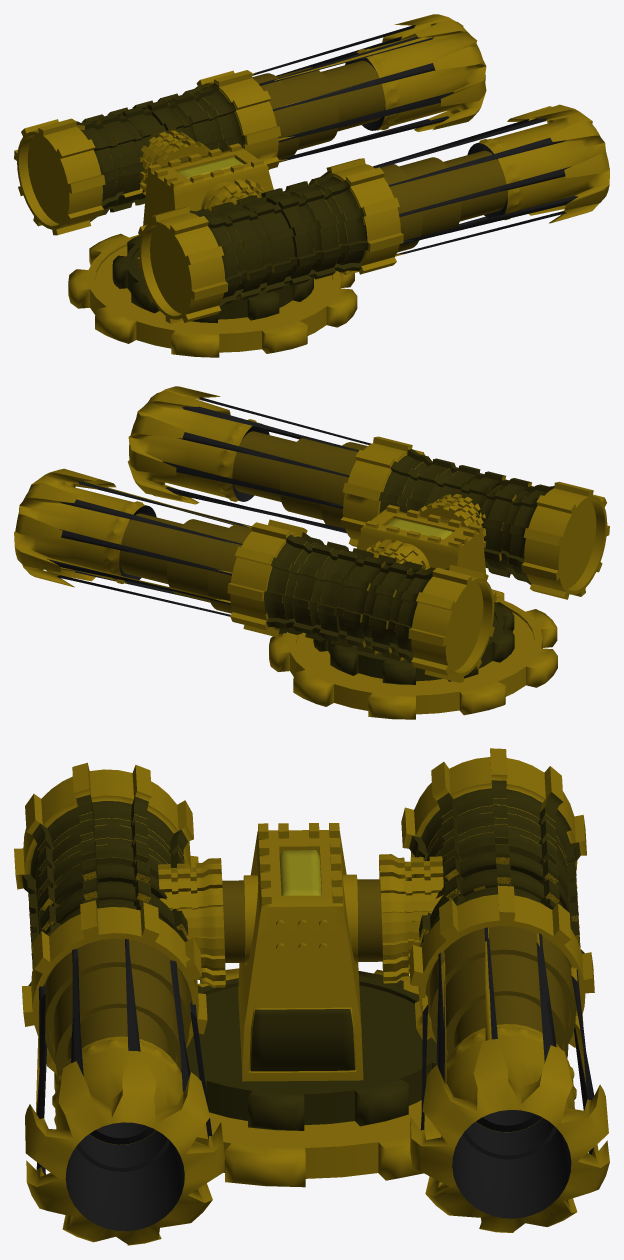
Rendered from Steampunk Cannon.fbx.
3 renders of one model, top to bottom at view 1: azimuth 30°, elevation 25°; view 2: azimuth 150°, elevation 25°; view 3: azimuth 270°, elevation 25°, orthographic. The views are drawn at different scales.
Visible parts, largest first — view 1: Cylinder_3_2, Cylinder_2, Cylinder_4, Cube, Cylinder_3, Tube_1, Tube; view 2: Cylinder_2, Cylinder_3_2, Cylinder_4, Cube, Cylinder_3, Tube, Tube_1; view 3: Cylinder_3_2, Cylinder_2, Cube, Cylinder_3, Cylinder_4, Tube_1, Tube, Cylinder_1, Cylinder.
Part boxes in pixels (x1,y1,x2,y2): Cylinder_3_2: [136, 104, 609, 323]; Cylinder_2: [14, 14, 486, 235]; Cylinder_4: [68, 233, 357, 357]; Cube: [143, 143, 273, 225]; Cylinder_3: [112, 235, 313, 323]; Tube_1: [139, 130, 210, 195]; Tube: [206, 179, 266, 211]; Cylinder_2: [14, 468, 496, 682]; Cylinder_3_2: [128, 386, 609, 599]; Cylinder_4: [269, 589, 557, 719]; Cube: [356, 504, 485, 573]; Cylinder_3: [313, 602, 514, 684]; Tube: [418, 494, 486, 547]; Tube_1: [365, 539, 427, 569]; Cylinder_3_2: [14, 762, 224, 1245]; Cylinder_2: [401, 748, 609, 1232]; Cube: [238, 823, 363, 1081]; Cylinder_3: [181, 971, 436, 1130]; Cylinder_4: [54, 968, 441, 1187]; Tube_1: [379, 854, 443, 983]; Tube: [158, 858, 225, 987]; Cylinder_1: [222, 879, 382, 962]; Cylinder: [243, 874, 357, 965].
Bounding box in the file's own units: 465 × 159 × 326.
